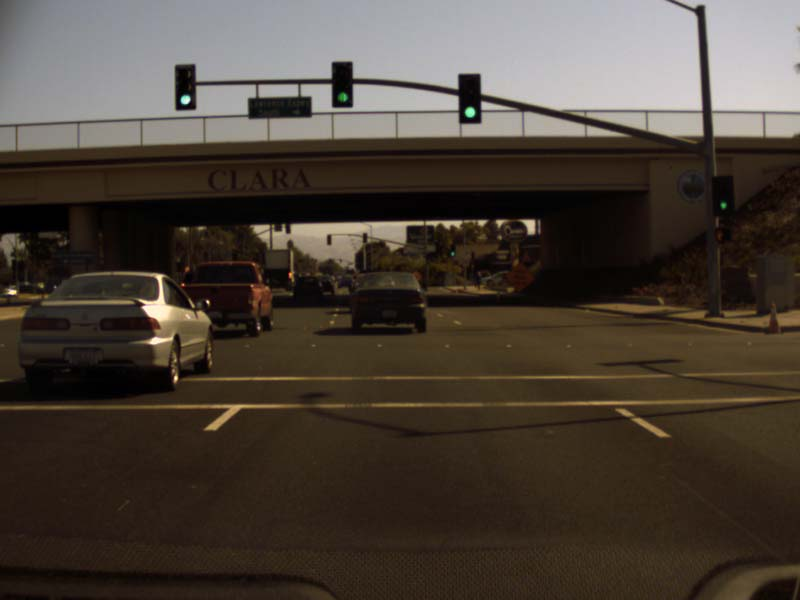Green: (458, 74, 480, 123), (175, 64, 195, 109), (332, 61, 351, 107), (712, 175, 733, 215), (450, 245, 455, 256)
